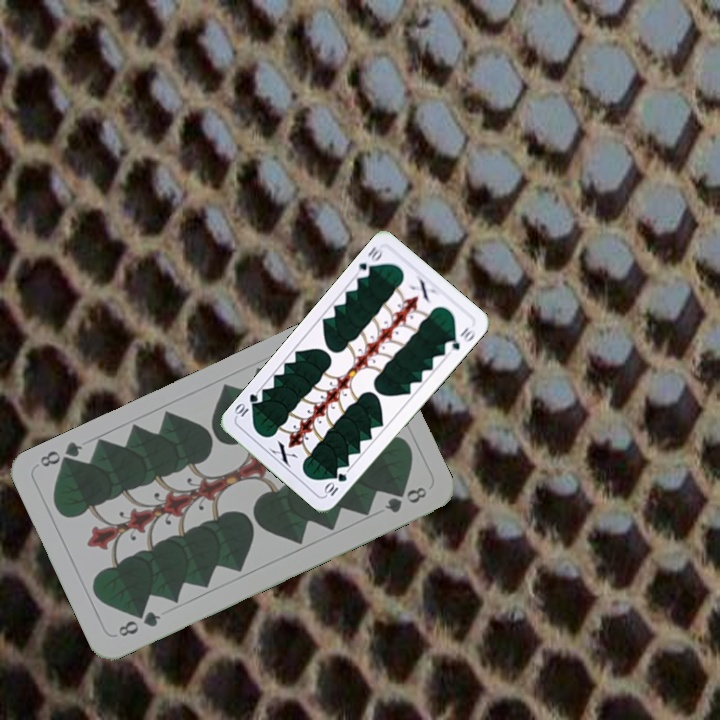G10: (352, 242, 385, 281), (320, 469, 350, 499)
G8: (114, 607, 163, 639)
